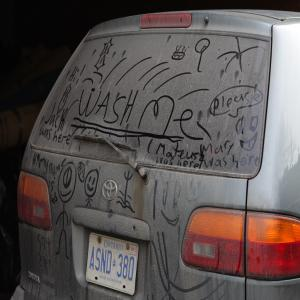Vehicle-registration-plate: (87, 233, 141, 296)
